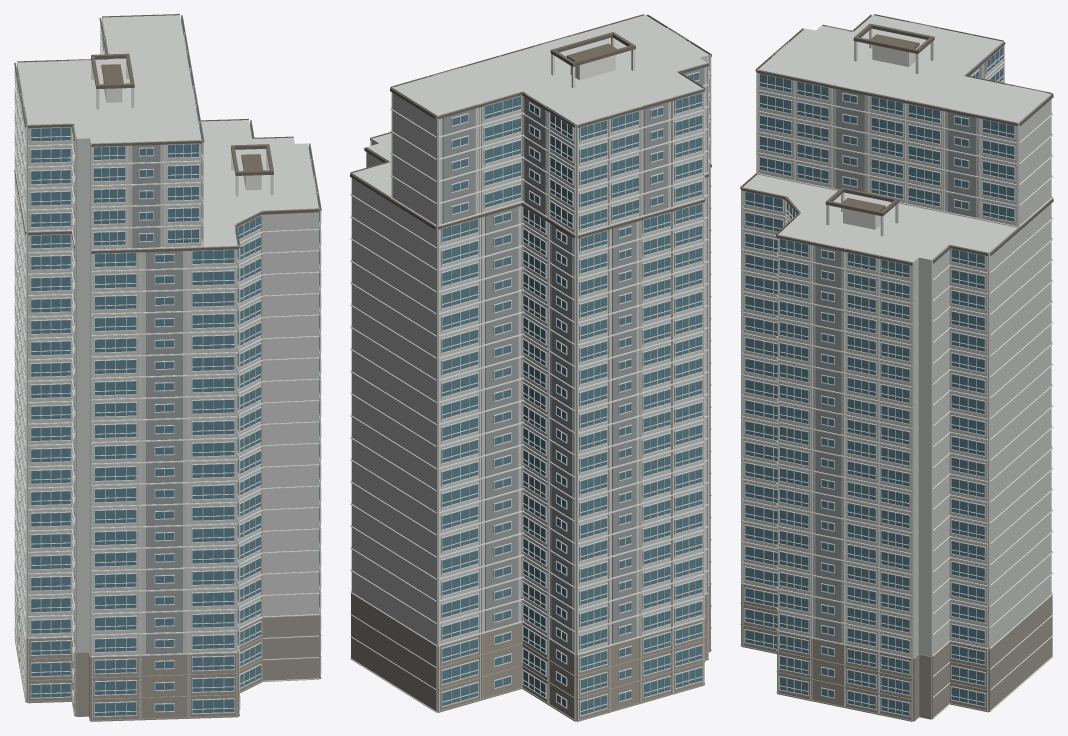
Rendered from bespoke-banpo-xi-126.glb.
The picture shows the model from 3 angles, left to right: view 1: azimuth 30°, elevation 25°; view 2: azimuth 150°, elevation 25°; view 3: azimuth 270°, elevation 25°; orthographic projection. The views are drawn at different scales.
Visible parts, largest first — view 1: editable_BX126_pale_silver_limestone, editable_BX126_blue_grey_broad_glazing, editable_BX126_white_window_frames, editable_BX126_ivory_course_bands, editable_BX126_grey_service_core, editable_BX126_warm_ground_stone, editable_BX126_dark_coping; view 2: editable_BX126_pale_silver_limestone, editable_BX126_blue_grey_broad_glazing, editable_BX126_white_window_frames, editable_BX126_ivory_course_bands, editable_BX126_grey_service_core, editable_BX126_warm_ground_stone, editable_BX126_dark_coping; view 3: editable_BX126_pale_silver_limestone, editable_BX126_blue_grey_broad_glazing, editable_BX126_white_window_frames, editable_BX126_ivory_course_bands, editable_BX126_grey_service_core, editable_BX126_warm_ground_stone, editable_BX126_dark_coping.
Boxes of the visible parts, bbox=[...] form: editable_BX126_pale_silver_limestone: bbox=[17, 15, 318, 715]; editable_BX126_blue_grey_broad_glazing: bbox=[16, 19, 319, 716]; editable_BX126_white_window_frames: bbox=[14, 29, 321, 717]; editable_BX126_ivory_course_bands: bbox=[14, 15, 321, 721]; editable_BX126_grey_service_core: bbox=[19, 20, 316, 654]; editable_BX126_warm_ground_stone: bbox=[14, 596, 321, 721]; editable_BX126_dark_coping: bbox=[14, 14, 321, 253]; editable_BX126_pale_silver_limestone: bbox=[352, 15, 709, 711]; editable_BX126_blue_grey_broad_glazing: bbox=[442, 72, 701, 715]; editable_BX126_white_window_frames: bbox=[441, 56, 709, 716]; editable_BX126_ivory_course_bands: bbox=[350, 14, 711, 721]; editable_BX126_grey_service_core: bbox=[432, 29, 704, 651]; editable_BX126_warm_ground_stone: bbox=[351, 584, 711, 721]; editable_BX126_dark_coping: bbox=[350, 14, 711, 238]; editable_BX126_pale_silver_limestone: bbox=[742, 15, 1051, 720]; editable_BX126_blue_grey_broad_glazing: bbox=[745, 47, 1014, 715]; editable_BX126_white_window_frames: bbox=[744, 45, 1015, 716]; editable_BX126_ivory_course_bands: bbox=[740, 14, 1053, 721]; editable_BX126_grey_service_core: bbox=[774, 22, 1046, 643]; editable_BX126_warm_ground_stone: bbox=[740, 584, 1052, 721]; editable_BX126_dark_coping: bbox=[740, 14, 1053, 265].
Bounding box in the file's own units: 40.11 × 75.7 × 36.65.
